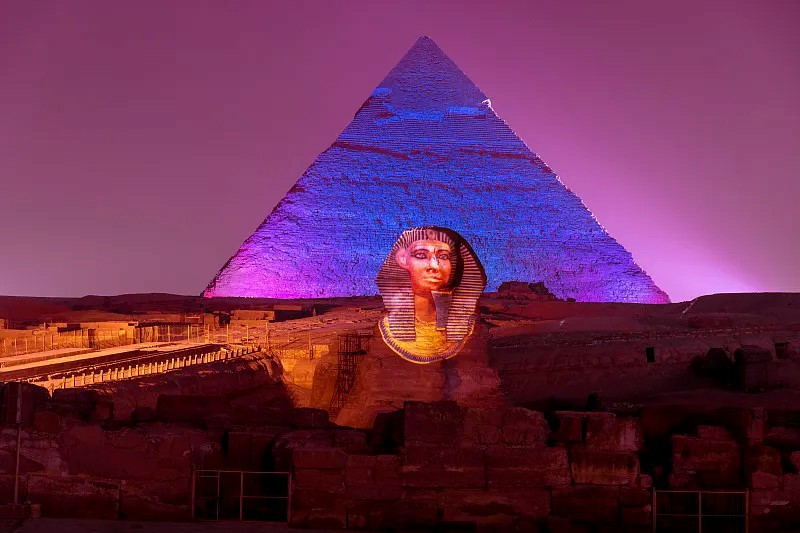Pyramid: (201, 37, 673, 305)
